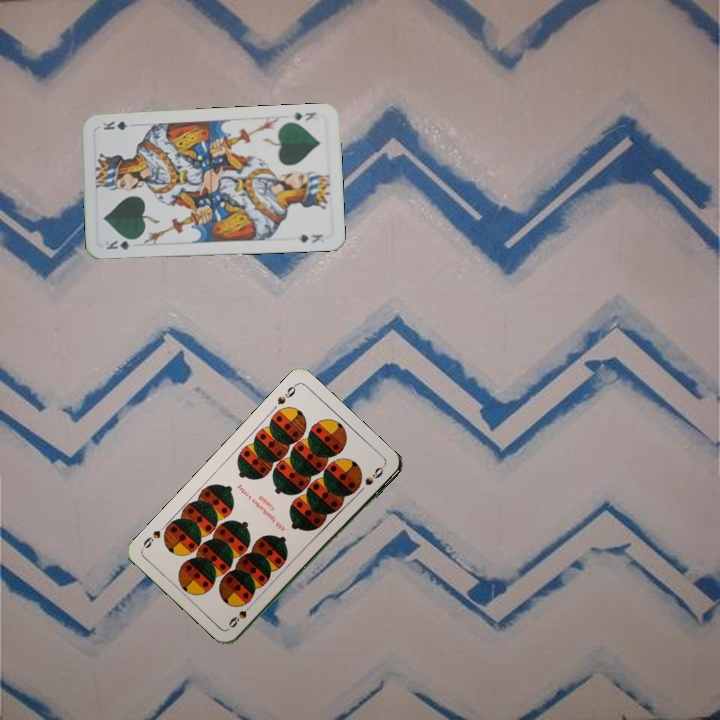GK: (101, 235, 140, 253), (290, 108, 319, 124)
S9: (224, 598, 257, 631), (273, 380, 300, 407)
